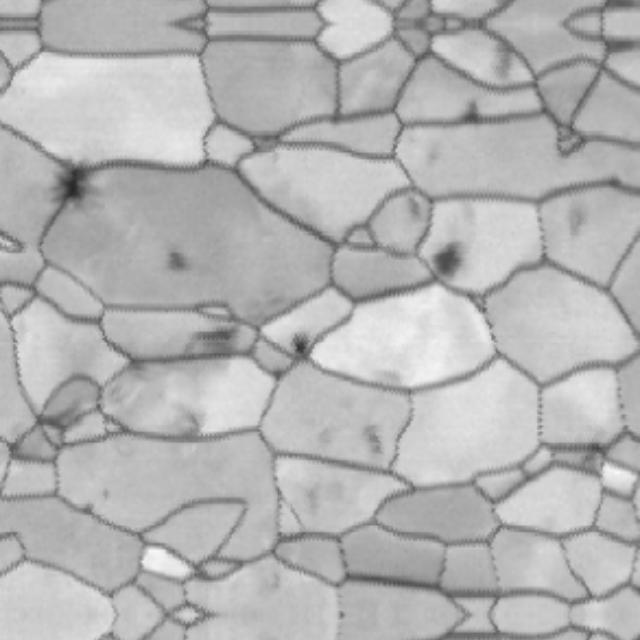good_void: (53, 155, 105, 208), (423, 236, 473, 280), (179, 319, 239, 354), (353, 411, 389, 458), (167, 401, 212, 435), (488, 38, 522, 81), (560, 201, 592, 244), (578, 441, 607, 471), (283, 331, 312, 358), (74, 496, 101, 524), (167, 245, 192, 272), (400, 196, 423, 225), (96, 481, 117, 501), (463, 104, 483, 125)
